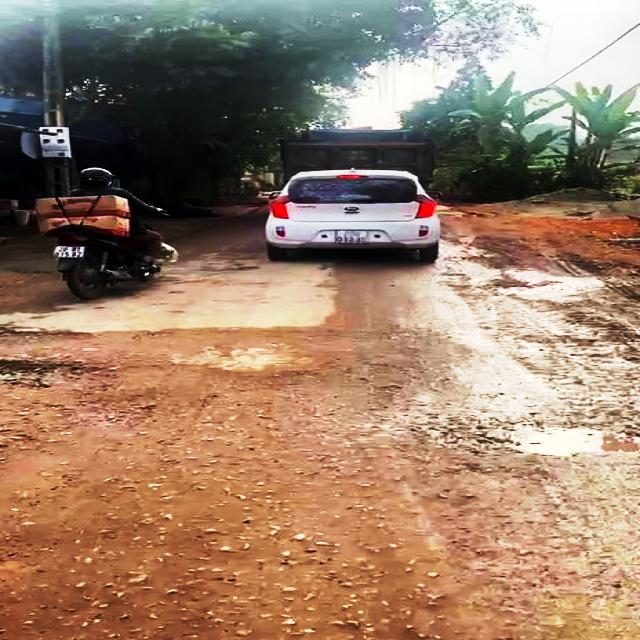pothole: (454, 409, 640, 463), (0, 354, 119, 389)
